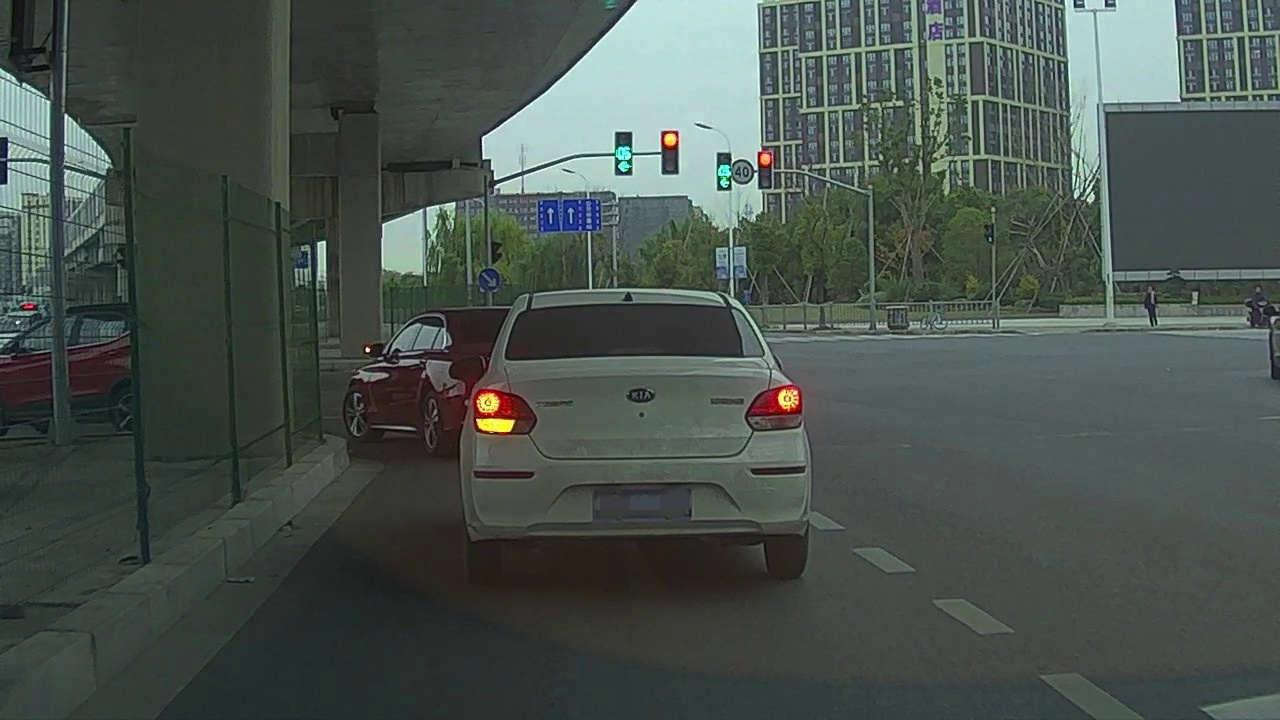traffic_light: (615, 132, 633, 174), (757, 153, 773, 190), (665, 132, 679, 172), (718, 155, 733, 189)
